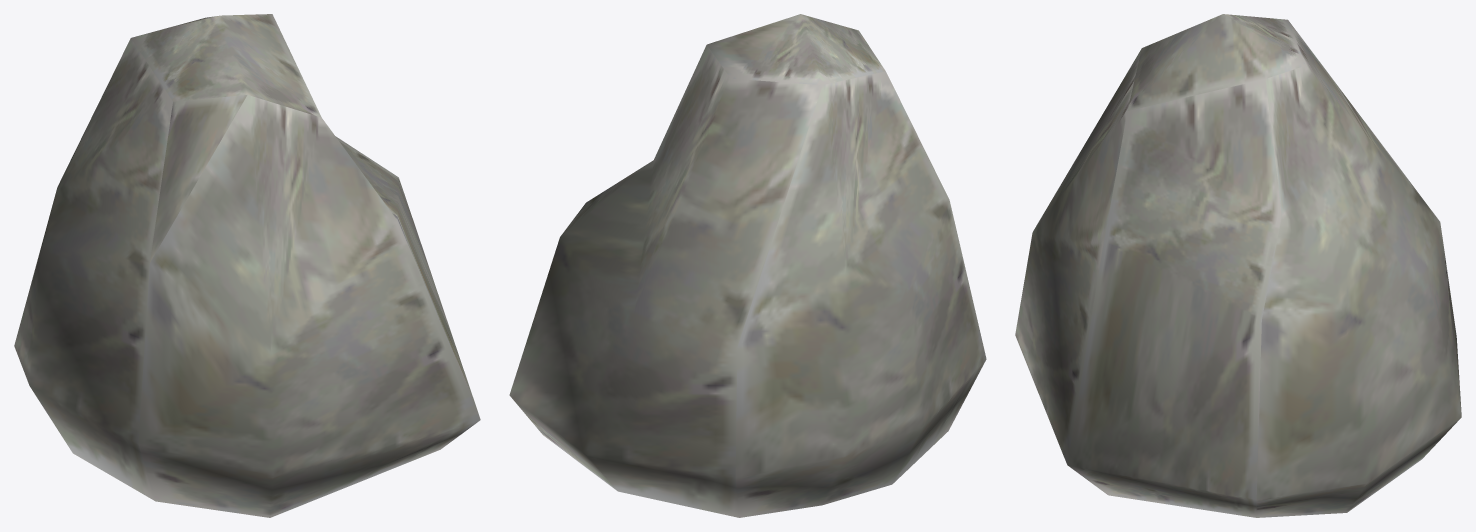
File: stone.fbx
The picture shows the model from 3 angles, left to right: view 1: azimuth 30°, elevation 25°; view 2: azimuth 150°, elevation 25°; view 3: azimuth 270°, elevation 25°; orthographic projection. The views are drawn at different scales.
Visible parts, largest first — view 1: rock_big; view 2: rock_big; view 3: rock_big.
Boxes of the visible parts, left/top/right/bottom form: rock_big: left=14, top=14, right=480, bottom=517; rock_big: left=509, top=14, right=986, bottom=517; rock_big: left=1015, top=14, right=1461, bottom=517.
Bounding box in the file's own units: 29789 × 30291 × 30073.
